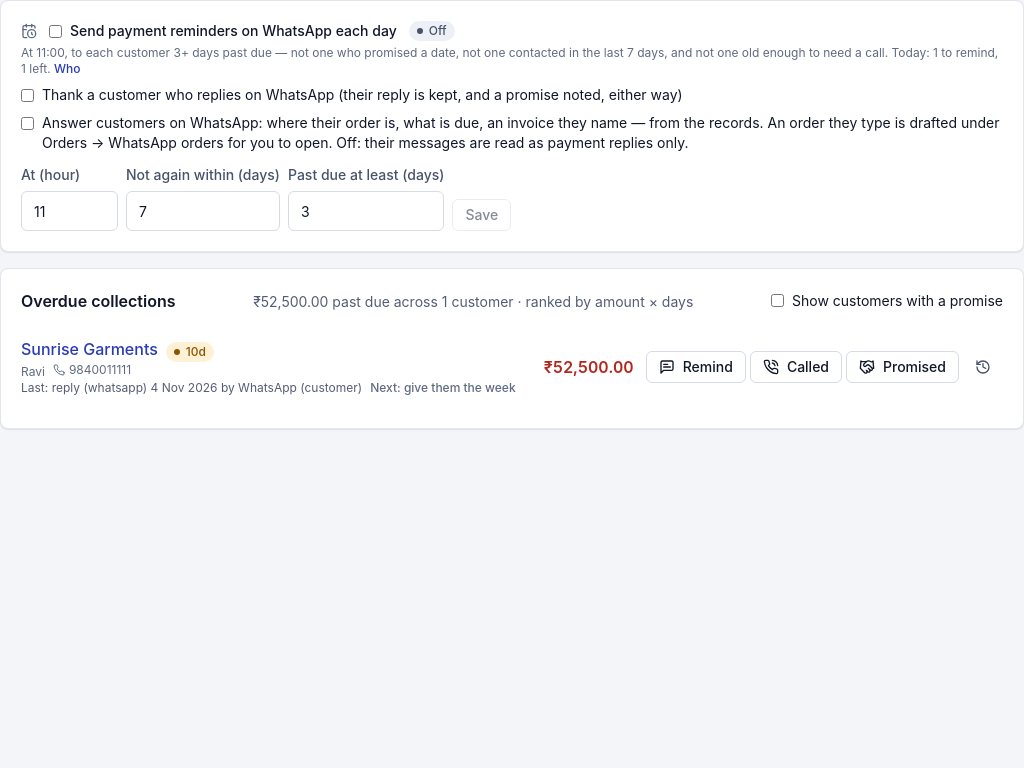
it: a reminder that did not go › is marked in the history, with what the provider said
This screenshot has width=1024, height=768.
Expected: the link "Sunrise Garments" is shown, [21,339,158,359]
Click the button named "history". click: (983, 366)
box: [963,350,1003,382]
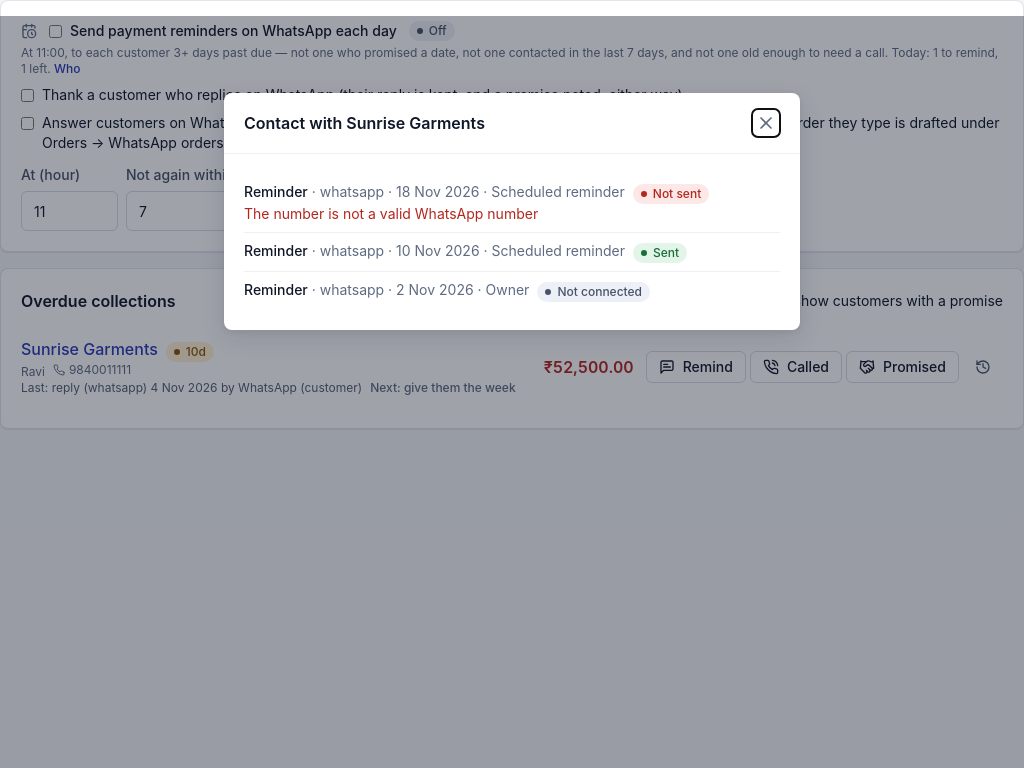
Result: the 1st list item shows "not sent" at [653,186,701,201]
Result: the 1st list item shows "The number is not a valid WhatsApp number" at [244,205,538,222]
Result: the list item "reminder · whatsapp · 10 Nov 2026 · Scheduled reminder sent" is shown at [244,232,780,271]
